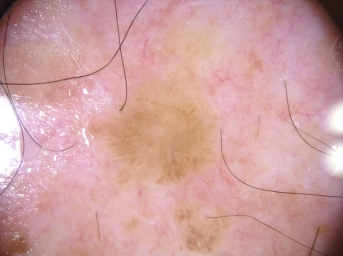seborrheic keratosis: (89, 62, 229, 189)
